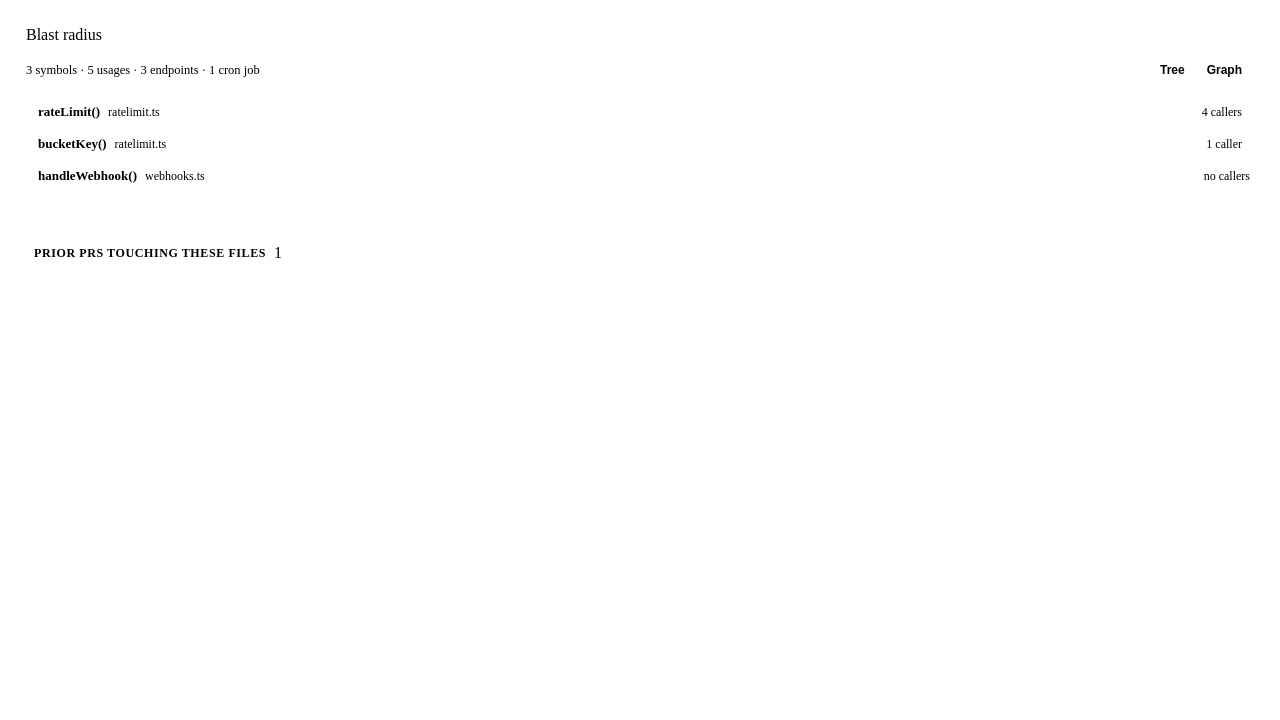
Scenario: BlastRadiusCard — Tree/Graph toggle › switches from Tree to Graph and moves aria-selected
Expected: the list named "Changed symbols" is shown, [26,96,1254,192]
Click the tab "Graph" at point(1224, 70), box [1197,60,1252,80]
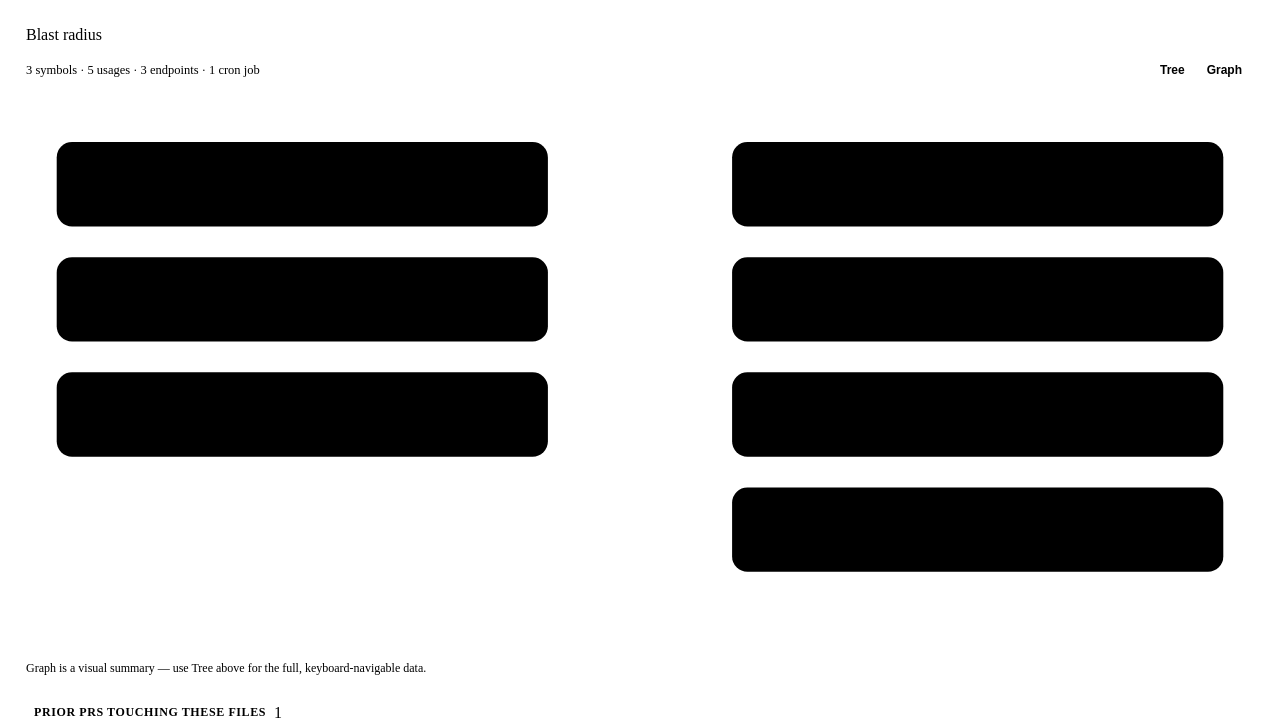
Now the picture is shown
